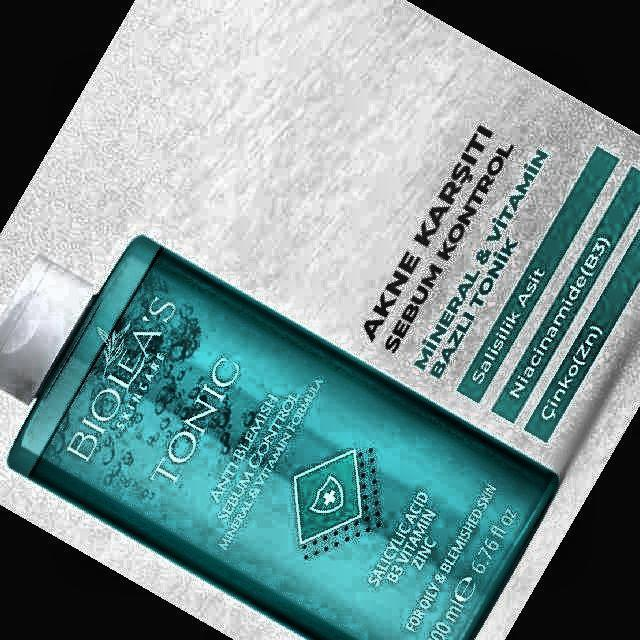plastic: (0, 238, 559, 640)
